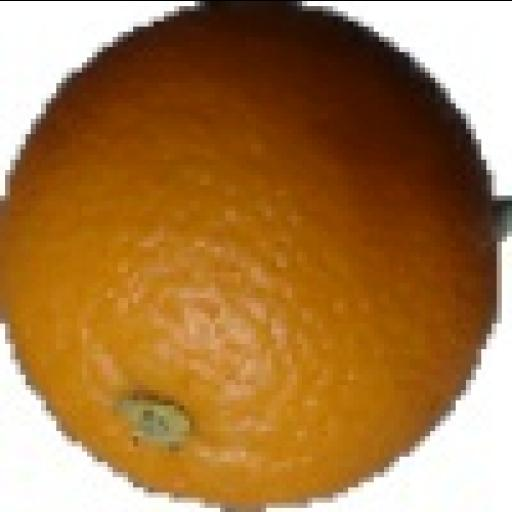orange: (0, 6, 496, 501)
